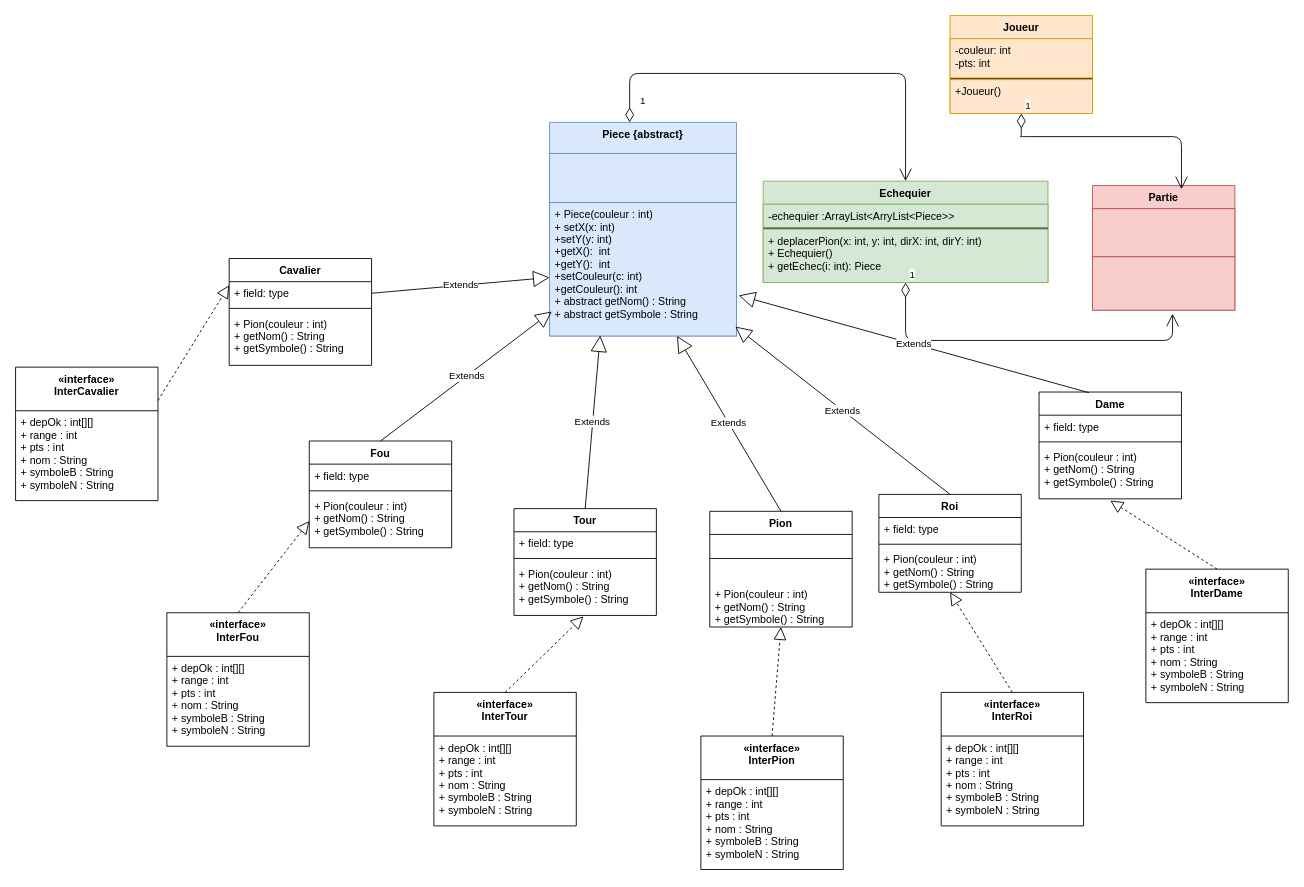
This 1304x887 diagram has some shape labels left out. The centre of each missing label's shape, as x and y in pixels:
"# x: int # y: int # couleur: int" belongs at pixel 642 177.
"+Partie() +afficher()" belongs at pixel 1163 283.
"-tour: int -joueur: joueur[2] -echequier: echequier" belongs at pixel 1163 232.
